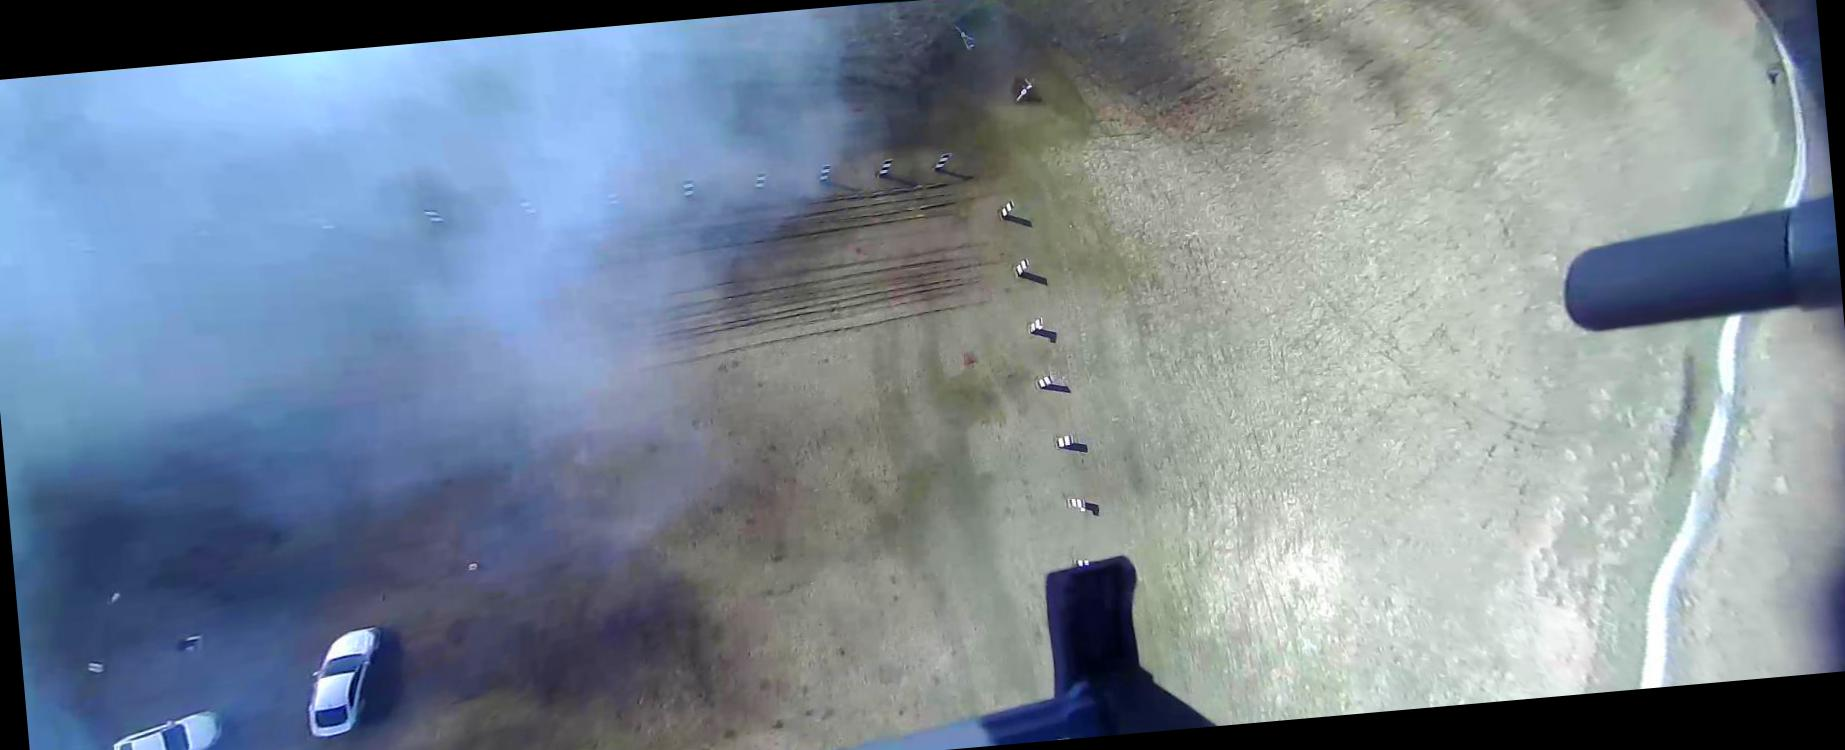vehicle: (298, 624, 391, 739), (107, 708, 228, 749)
